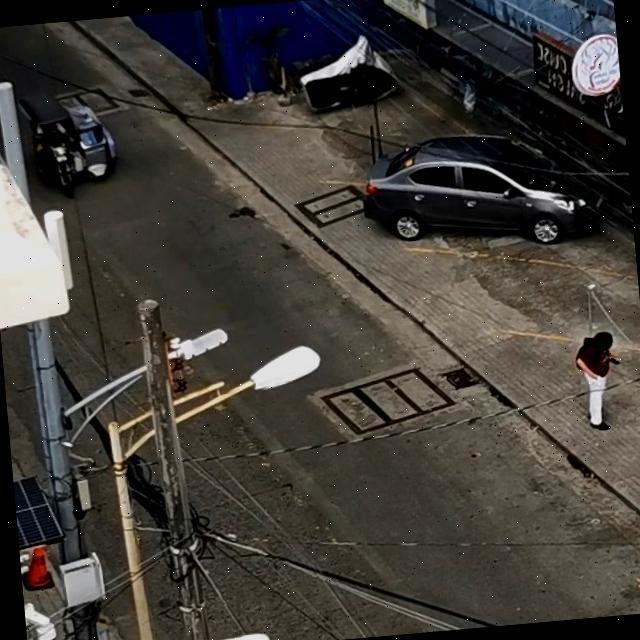Tricycle: (24, 87, 122, 200)
